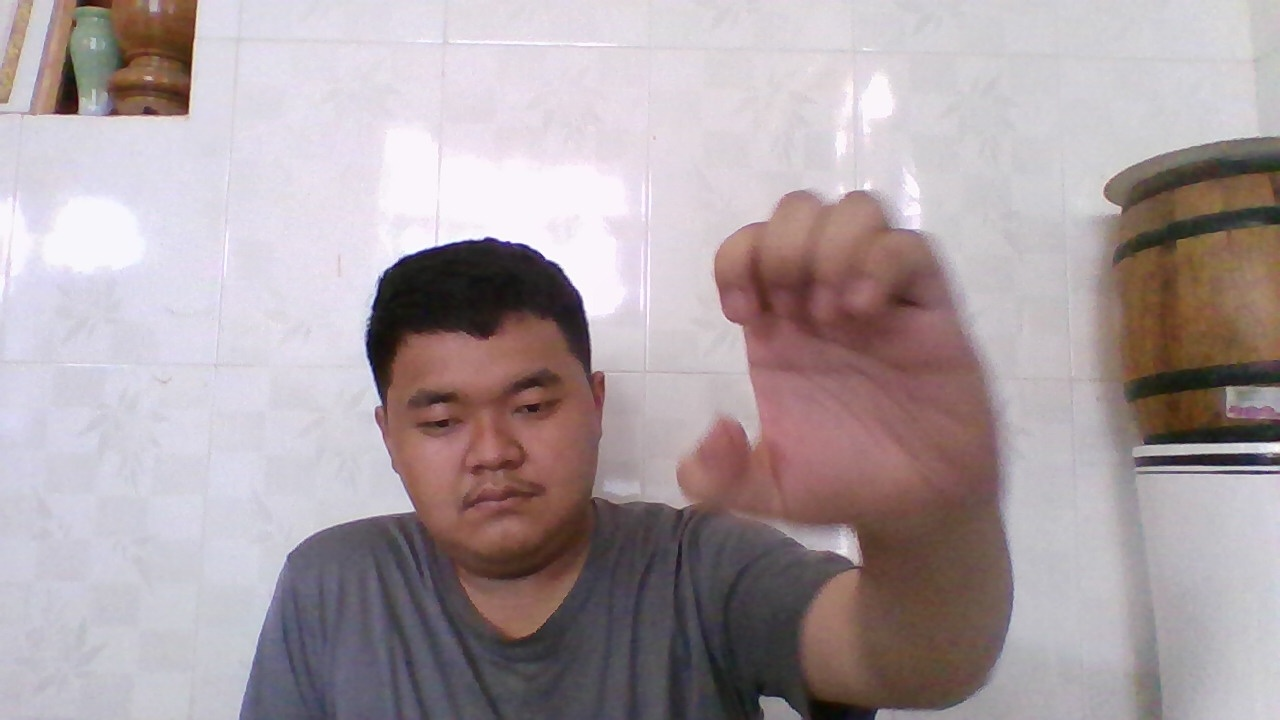E: (686, 180, 949, 527)
